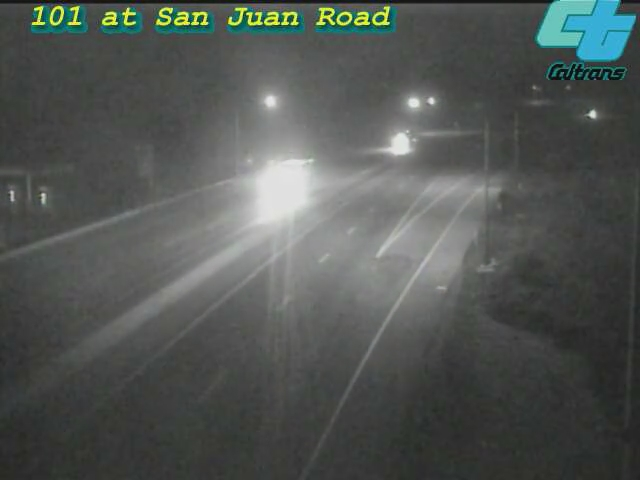vehicle: (245, 140, 325, 220), (372, 119, 422, 169), (567, 89, 617, 139)
